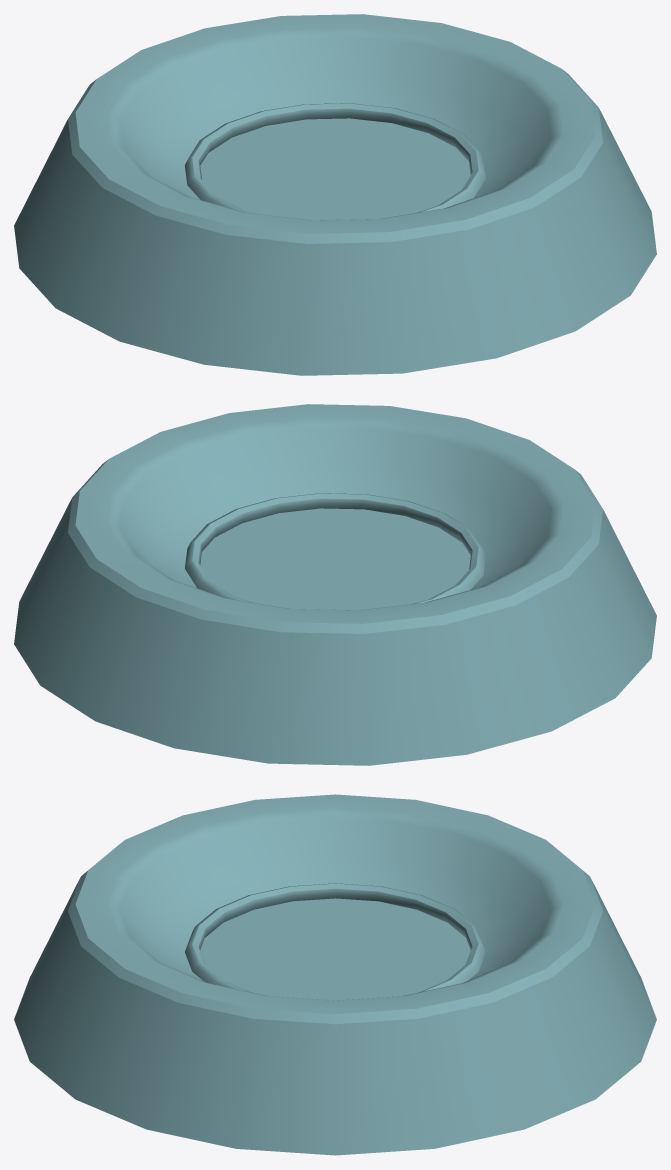
The model's file is panel_galaxy_dekor_1_1.fbx.
3 renders of one model, top to bottom at view 1: azimuth 30°, elevation 25°; view 2: azimuth 150°, elevation 25°; view 3: azimuth 270°, elevation 25°, orthographic.
Parts seen in each view (by area): view 1: panel_galaxy_dekor_1_1; view 2: panel_galaxy_dekor_1_1; view 3: panel_galaxy_dekor_1_1.
Part boxes in pixels (box(x1,y1,x2,y2)): panel_galaxy_dekor_1_1: box(14, 14, 656, 375); panel_galaxy_dekor_1_1: box(14, 404, 656, 765); panel_galaxy_dekor_1_1: box(14, 794, 656, 1155).
Size of the model in its own units: 150 by 29.6 by 150.
